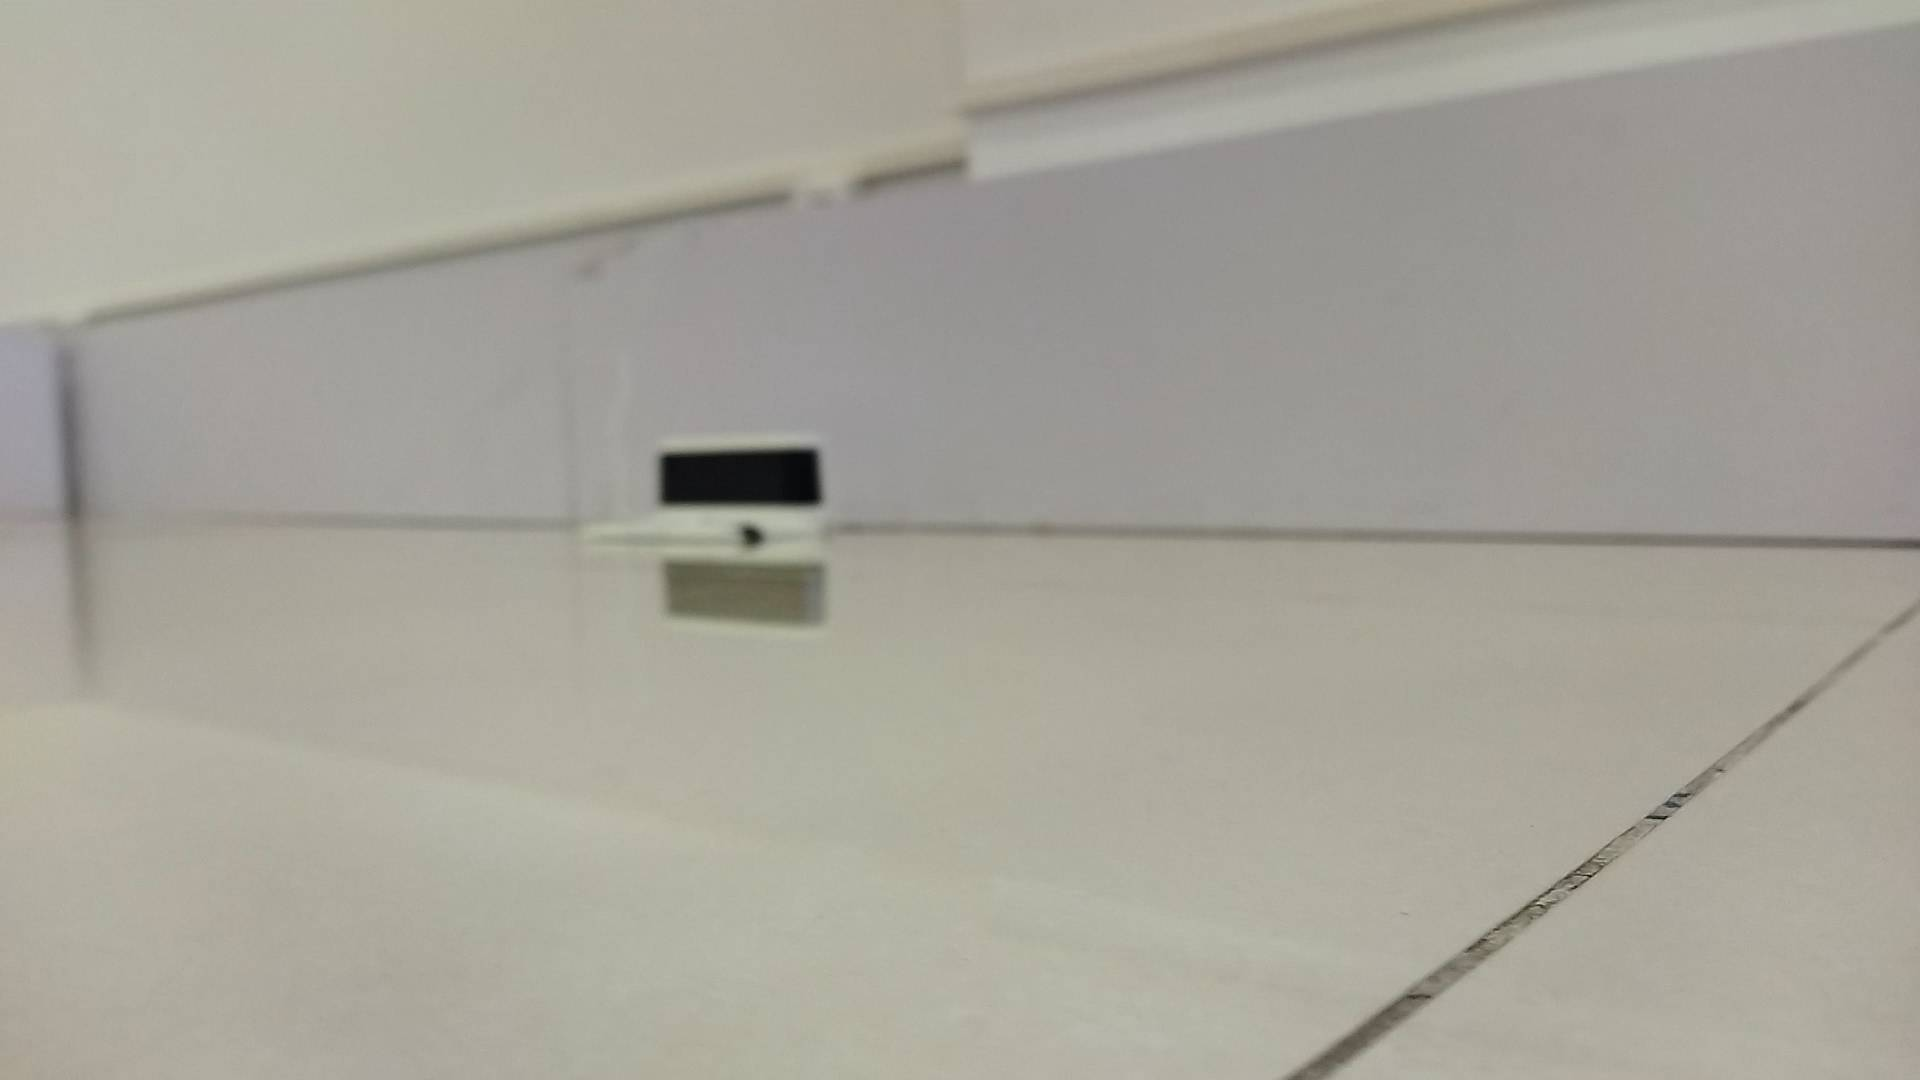recharge seat: (578, 430, 841, 550)
